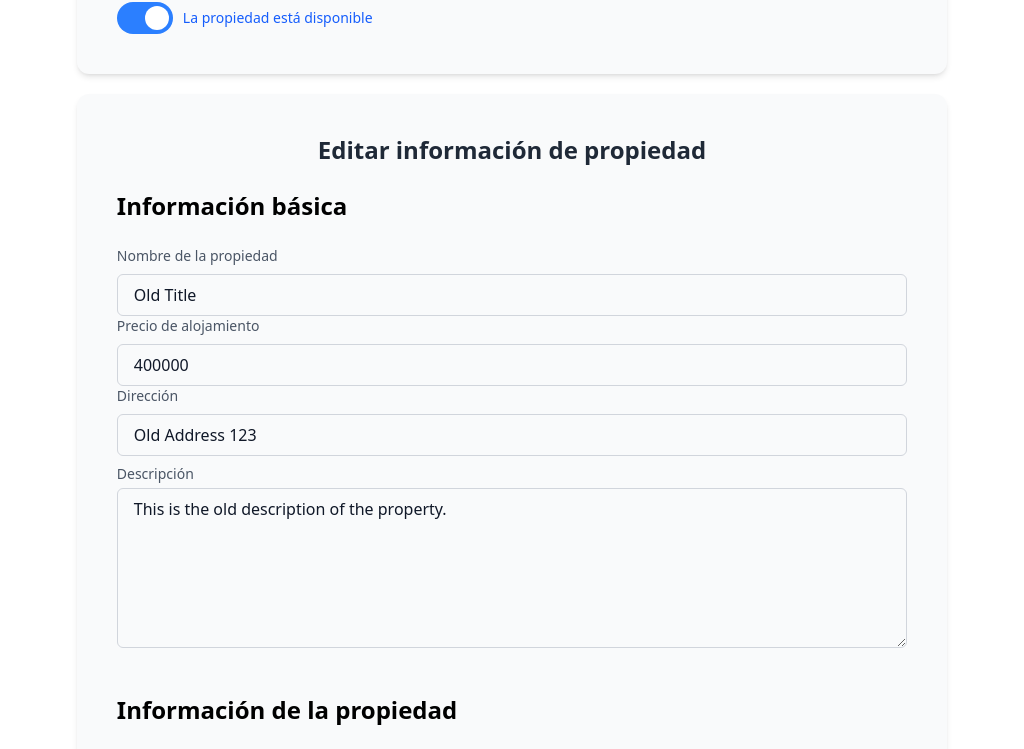
it: DashboardHousingEdit Form Interactions › should display a client-side validation error for invalid data
(page scrolled)
Replace the text in the number field named "price" with "-500": (512, 365) [117,344,907,386]
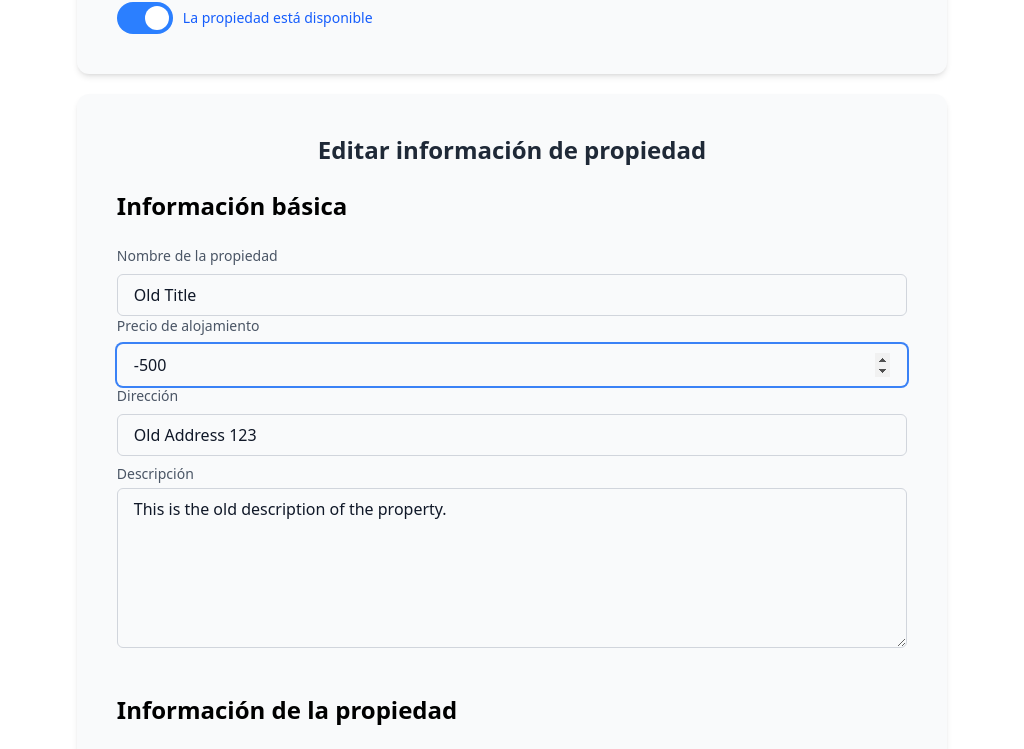
Scroll
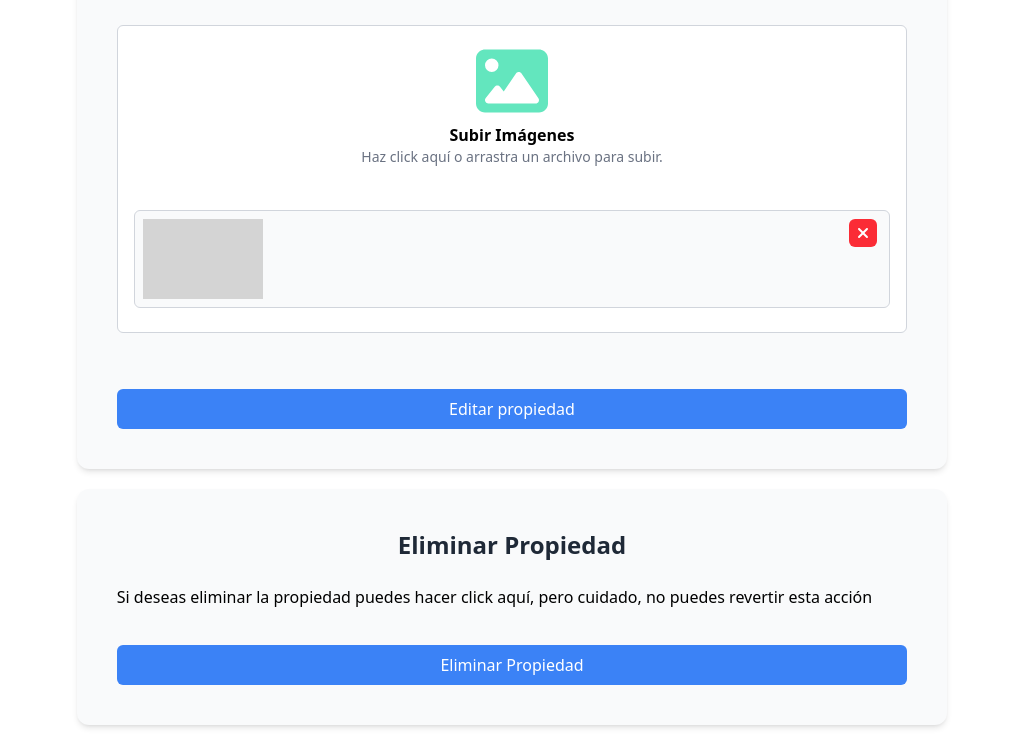
Click the button "Editar propiedad": (512, 409) [117,389,907,429]
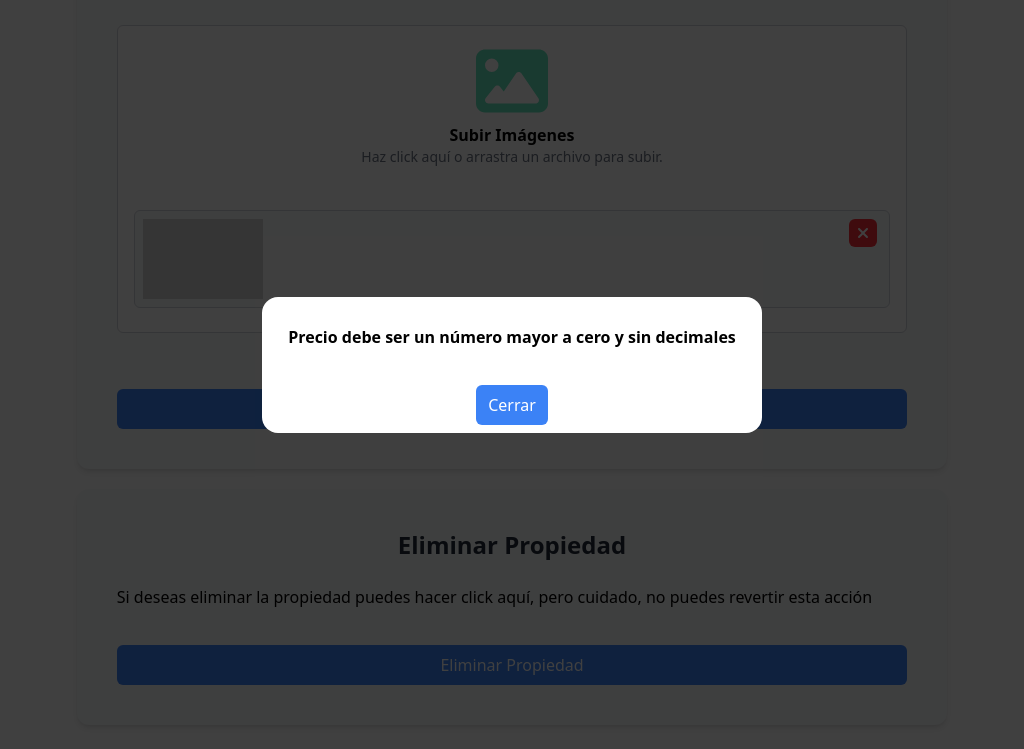
expect the text "Precio debe ser un número mayor a cero y sin decimales" is shown: met, box [270,325,754,349]
